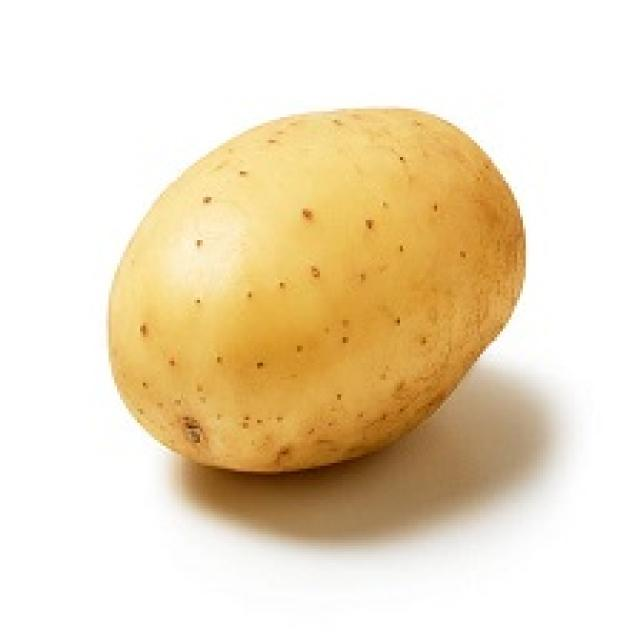healthy: (95, 83, 548, 486)
